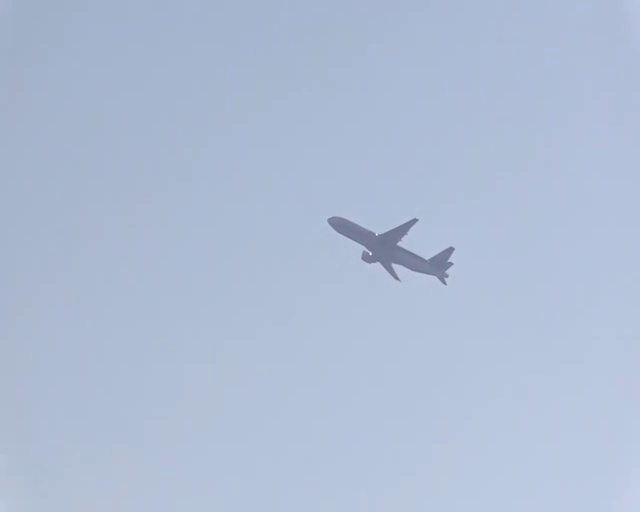AIRPLANE: (326, 212, 455, 285)
